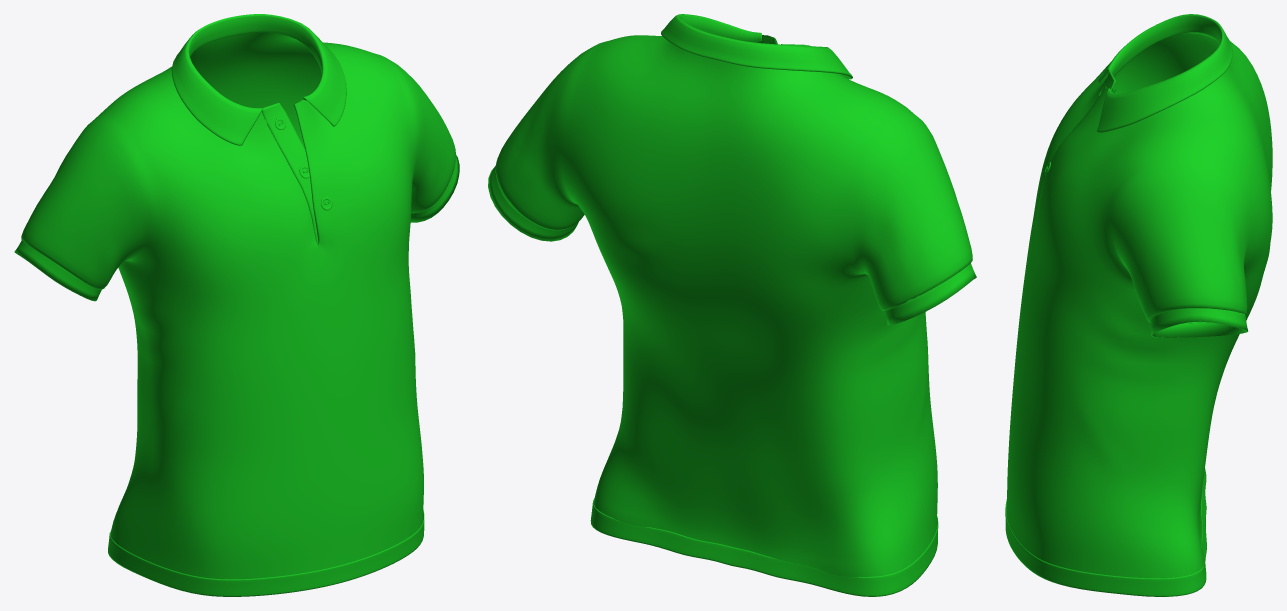
File: shirt_green_obj.obj
The picture shows the model from 3 angles, left to right: view 1: azimuth 30°, elevation 25°; view 2: azimuth 150°, elevation 25°; view 3: azimuth 270°, elevation 25°; orthographic projection. The views are drawn at different scales.
Parts seen in each view (by area): view 1: polotshit; view 2: polotshit; view 3: polotshit.
Part boxes in pixels (left/top/right/bottom): polotshit: left=14, top=14, right=459, bottom=596; polotshit: left=488, top=14, right=976, bottom=596; polotshit: left=1005, top=14, right=1272, bottom=596.
Bounding box in the file's own units: 58.22 × 62.88 × 30.91.
